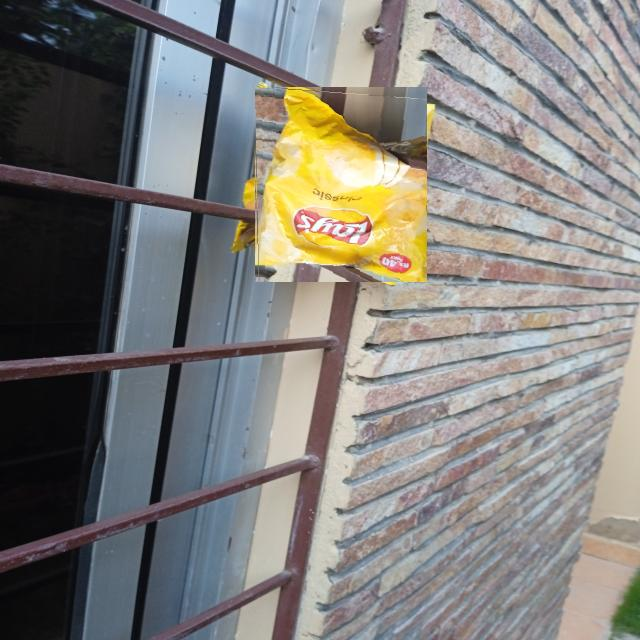Plastic: (254, 86, 427, 282)
